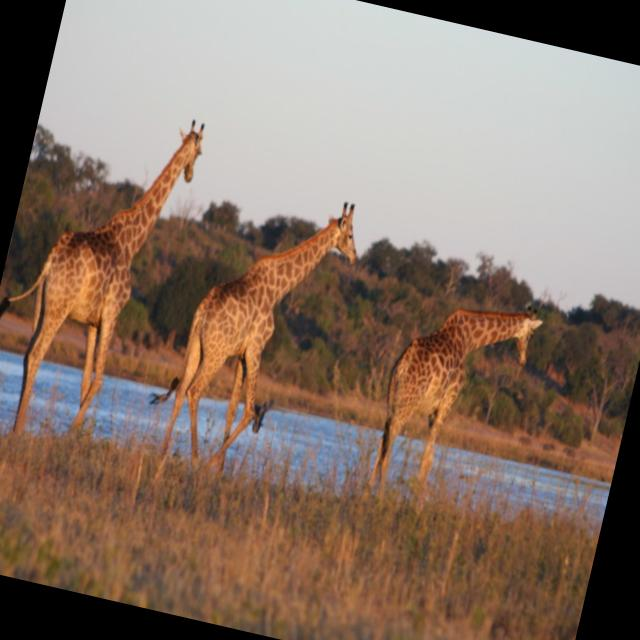girafee: (135, 130, 386, 508), (346, 214, 596, 564), (35, 72, 224, 436)
